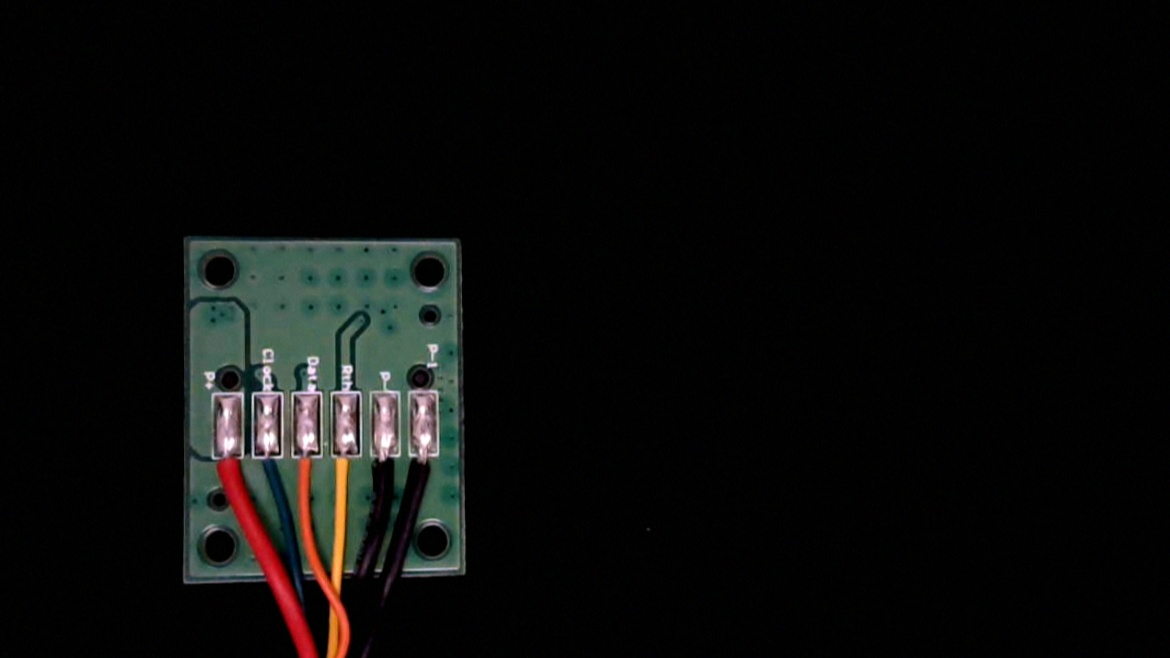Black: (371, 434, 401, 508)
Black1: (409, 437, 439, 500)
Green: (253, 436, 281, 497)
Orange: (293, 434, 322, 501)
Red: (213, 434, 245, 505)
Yellow: (333, 434, 361, 510)
